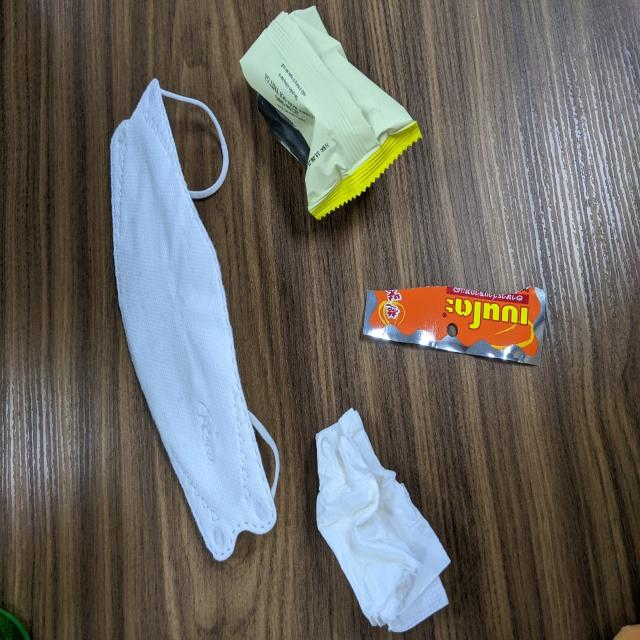mask: (110, 76, 280, 564)
napkin: (314, 406, 452, 635)
snack package: (237, 3, 426, 223)
